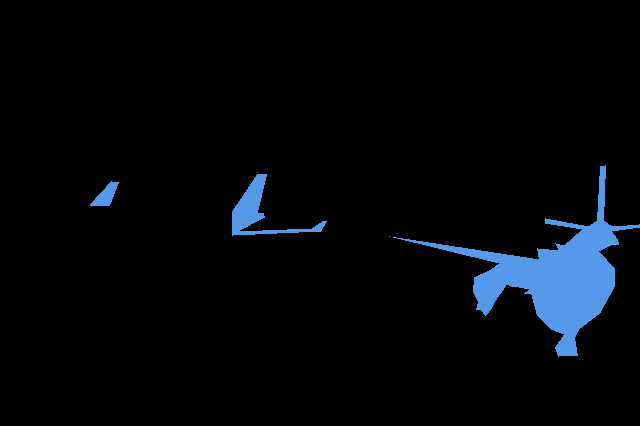Airplane: (389, 165, 640, 356), (232, 174, 327, 235), (90, 181, 119, 206)
